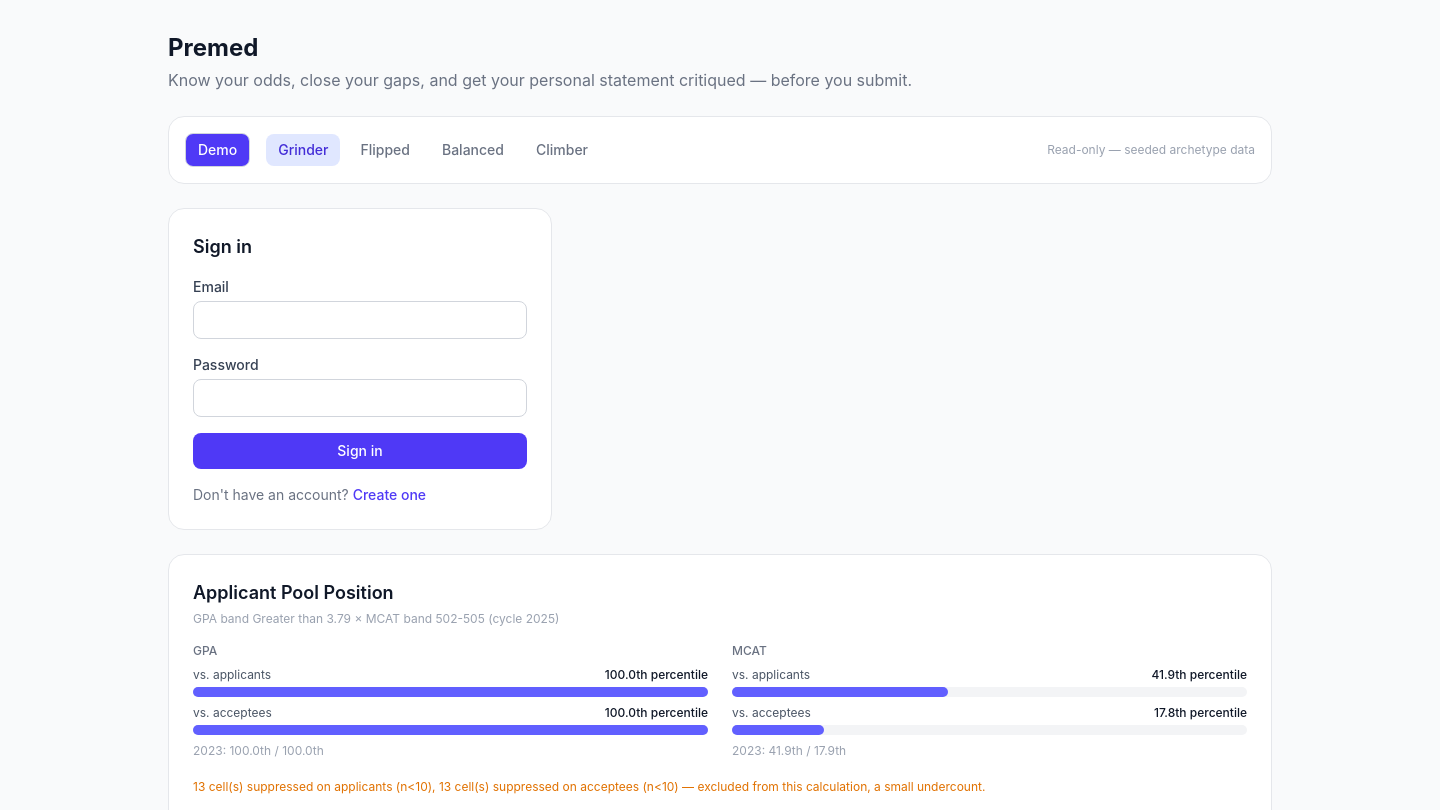
Test: PremedPage › logged-out auth panel › toggles between login and signup views without navigating
The width and height of the screenshot is (1440, 810).
Check: the heading "Sign in" is shown, box [193,236,252,257]
Click the button "Create one". click: point(389, 495)
box: [353,485,426,505]
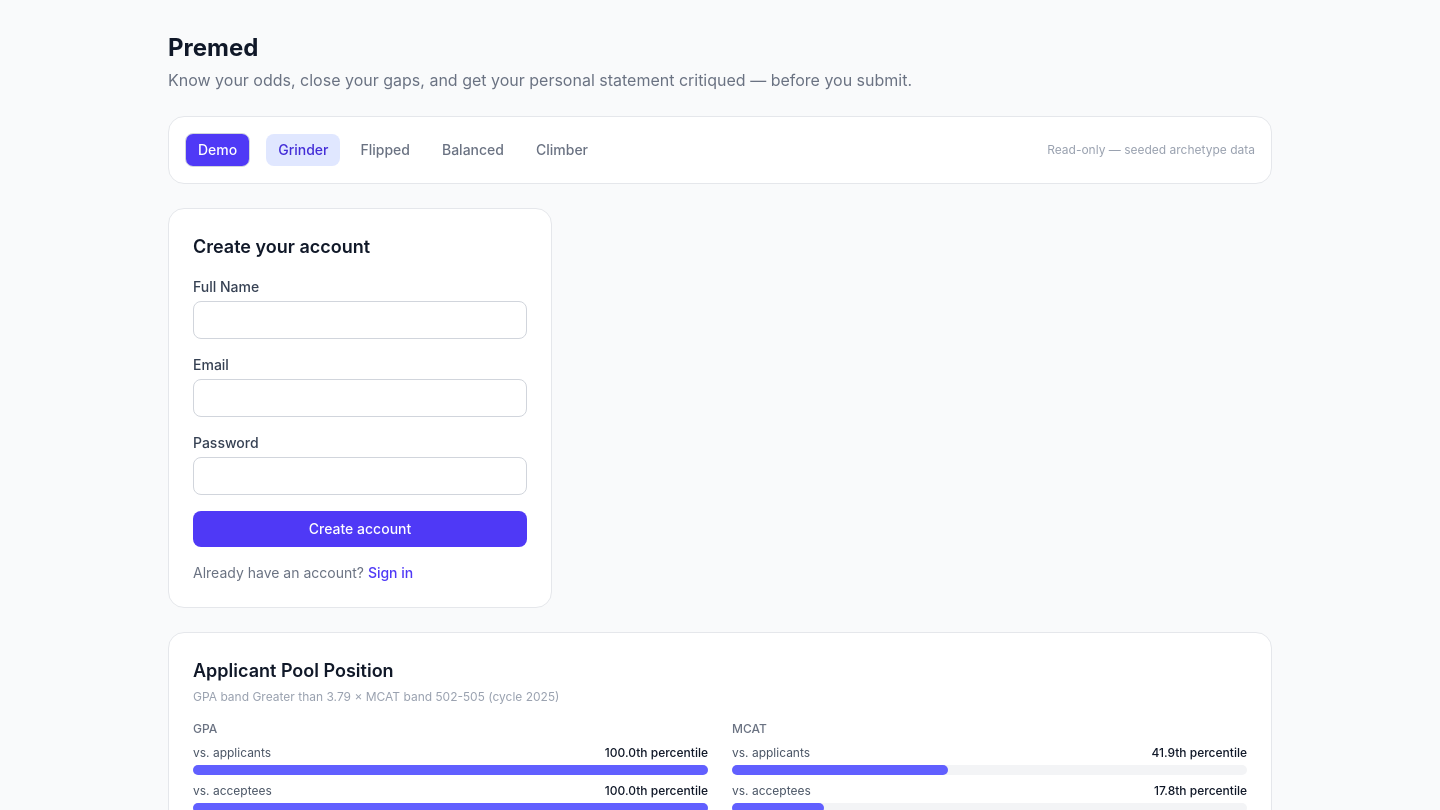
Check: the heading "Create your account" is shown, box [193,236,370,257]
